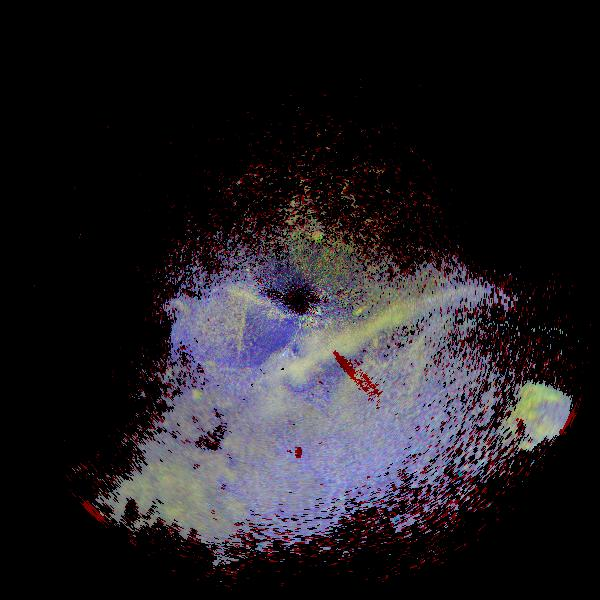roost: (189, 388, 204, 403)
